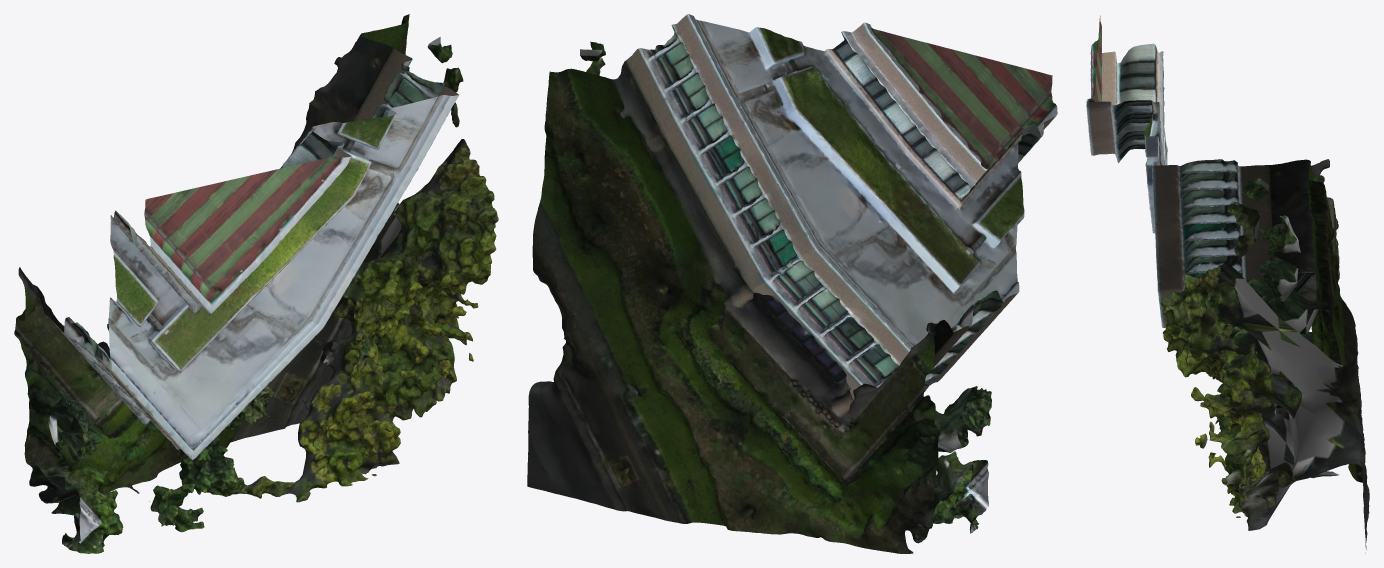
The model's file is Tile_+013_+015.fbx.
3 renders of one model, left to right at view 1: azimuth 30°, elevation 25°; view 2: azimuth 150°, elevation 25°; view 3: azimuth 270°, elevation 25°, orthographic. The views are drawn at different scales.
Visible parts, largest first — view 1: DefaultName; view 2: DefaultName; view 3: DefaultName.
Boxes of the visible parts, <box> form: DefaultName: <box>14,14,498,553</box>; DefaultName: <box>527,14,1057,553</box>; DefaultName: <box>1086,15,1369,553</box>.
Size of the model in its own units: 22.54 by 22.54 by 15.72.
